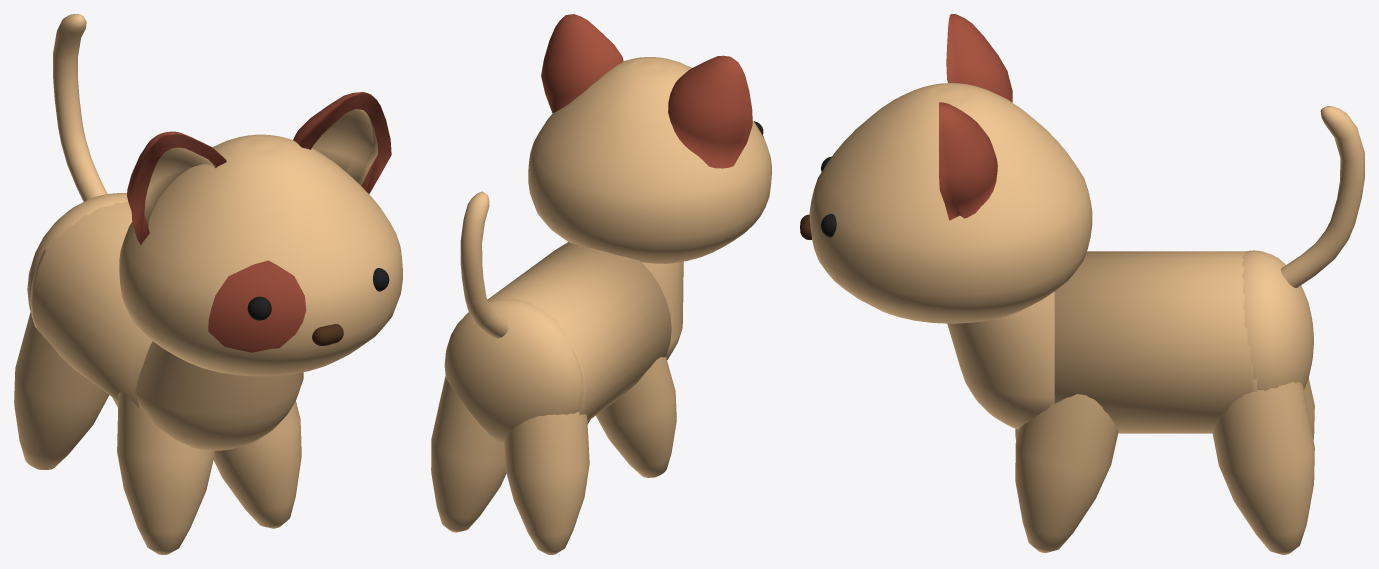
The model's file is dog.fbx.
3 views of the same model, side by side, from view 1: azimuth 30°, elevation 25°; view 2: azimuth 150°, elevation 25°; view 3: azimuth 270°, elevation 25° (orthographic). The views are drawn at different scales.
Visible parts, largest first — view 1: Sphere.003, Face, Circle.002, Circle.000, Sphere.002; view 2: Sphere.003, Face, Circle.000, Circle.002; view 3: Sphere.003, Face, Circle.002, Circle.000.
Part boxes in pixels (x1,y1,x2,y2): Sphere.003: (14,14,303,554); Face: (119,134,402,376); Circle.002: (293,92,391,193); Circle.000: (127,131,226,244); Sphere.002: (312,324,343,345); Sphere.003: (431,191,683,554); Face: (528,57,771,263); Circle.000: (668,55,752,168); Circle.002: (541,14,623,113); Sphere.003: (947,106,1364,554); Face: (809,83,1092,323); Circle.002: (939,102,997,220); Circle.000: (946,14,1012,102).
Size of the model in its own units: 168 by 301 by 331.
